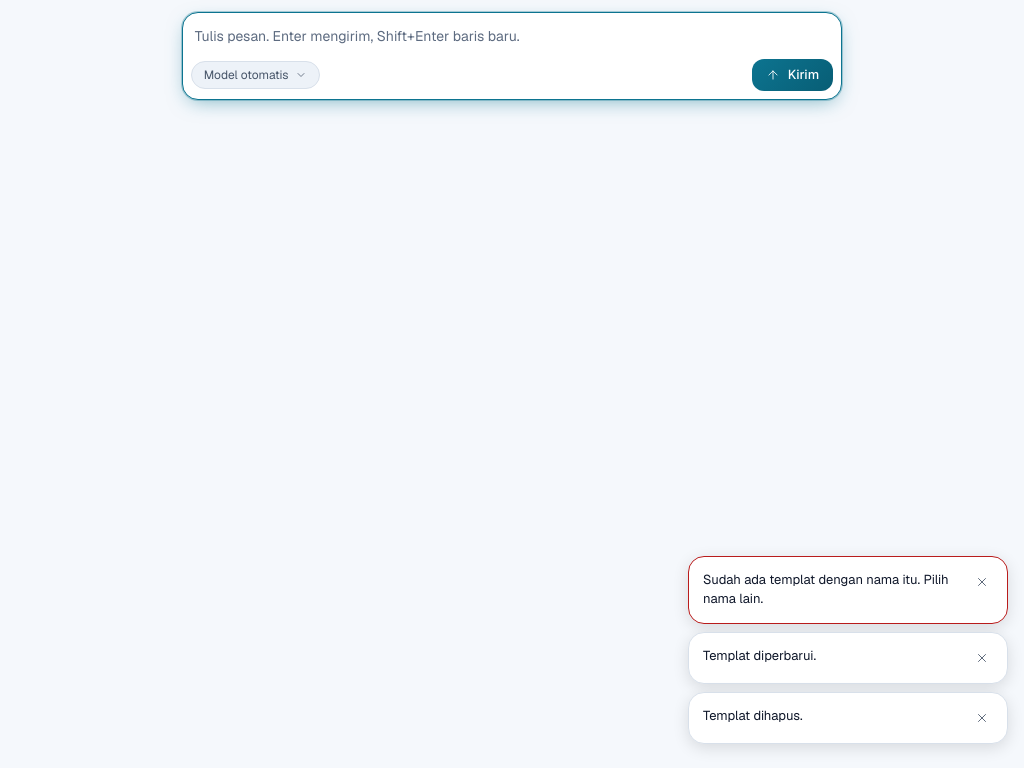
menu / di composer › templat berparameter membuka dialog isian lalu mengisi draf
This screenshot has width=1024, height=768.
In the text box labelled "pesan": (512, 36) [191, 21, 833, 51], type "/rin"
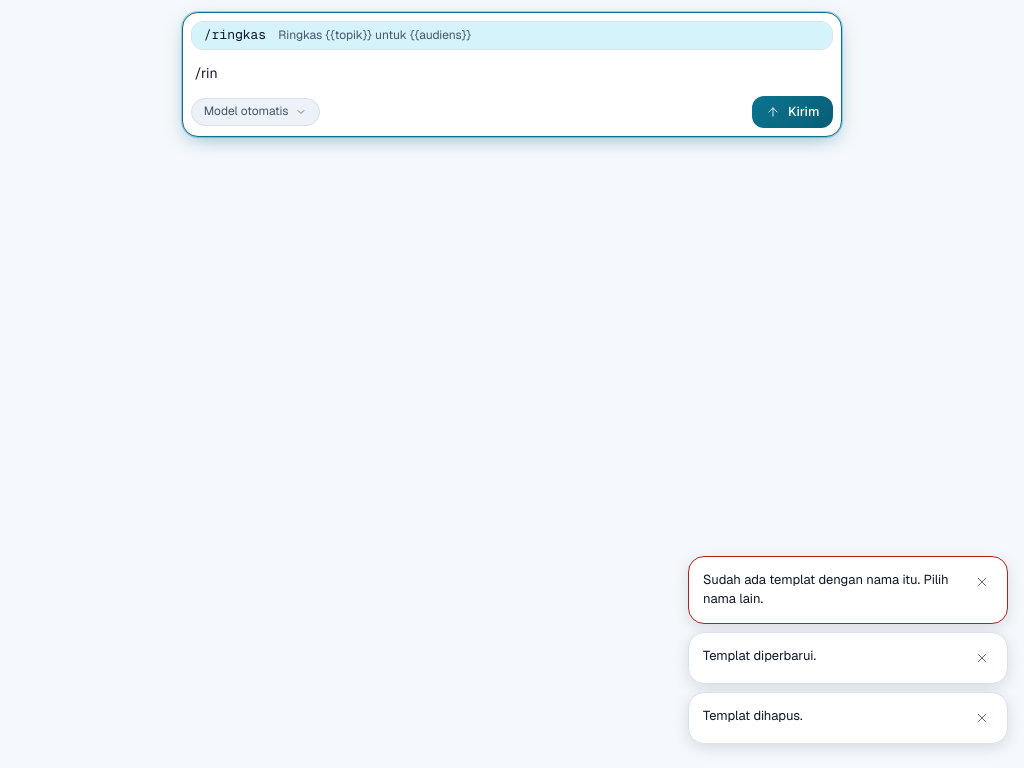
Click the option "/ringkas Ringkas {{topik}} untuk {{audiens}}": (239, 34) [192, 22, 832, 49]
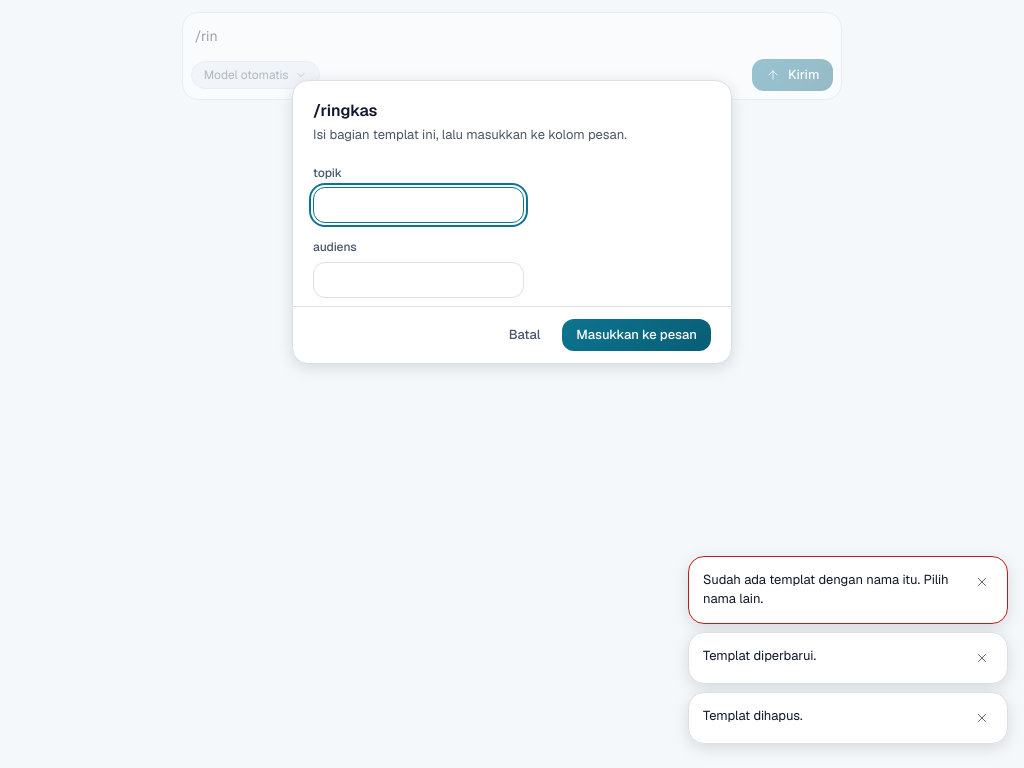
In the field labelled "topik": (418, 205) [313, 187, 524, 223], type "AI"
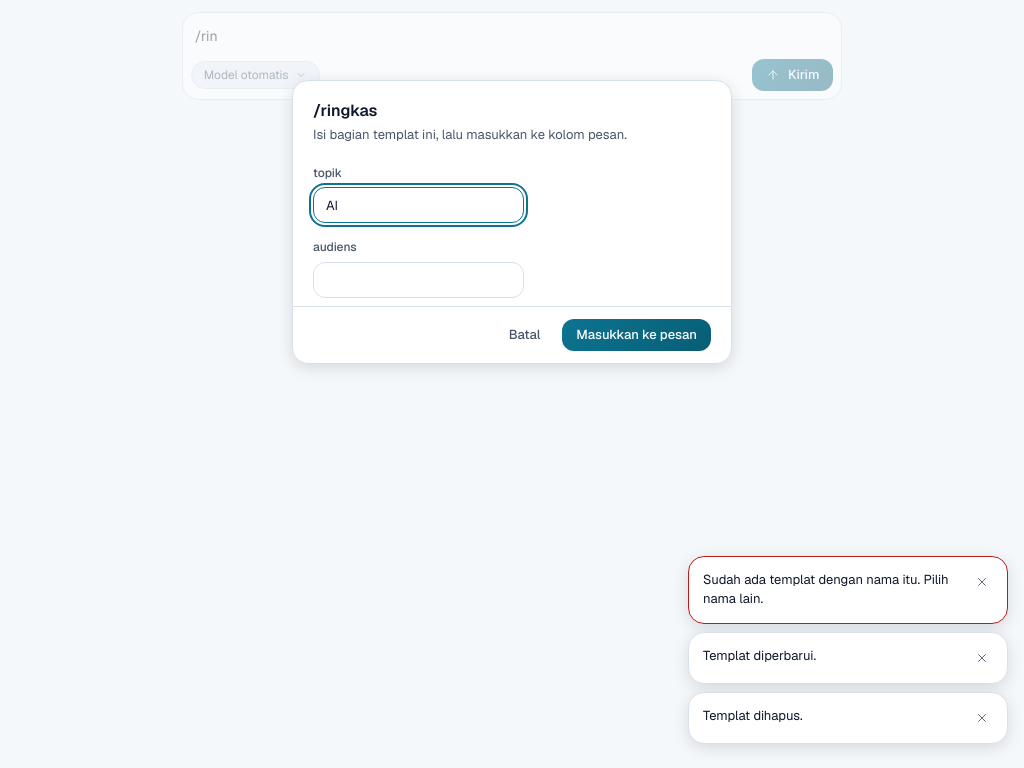
In the field labelled "audiens": (418, 280) [313, 262, 524, 298], type "manajer"
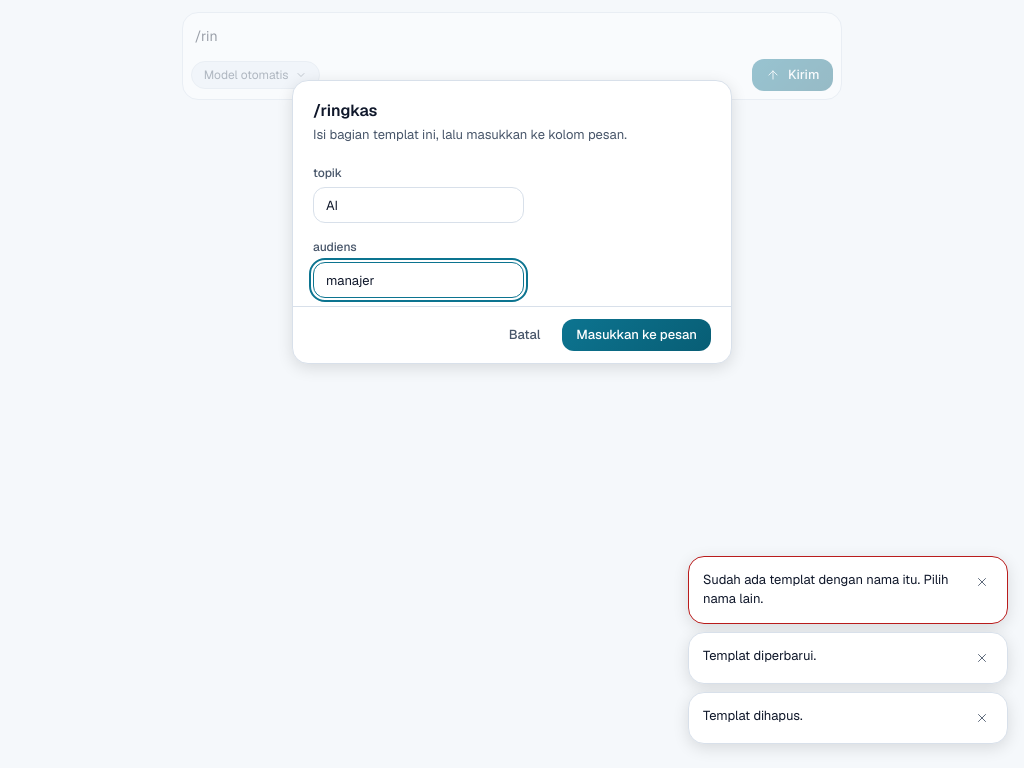
Click the button "Masukkan ke pesan": (637, 335) [562, 319, 711, 351]
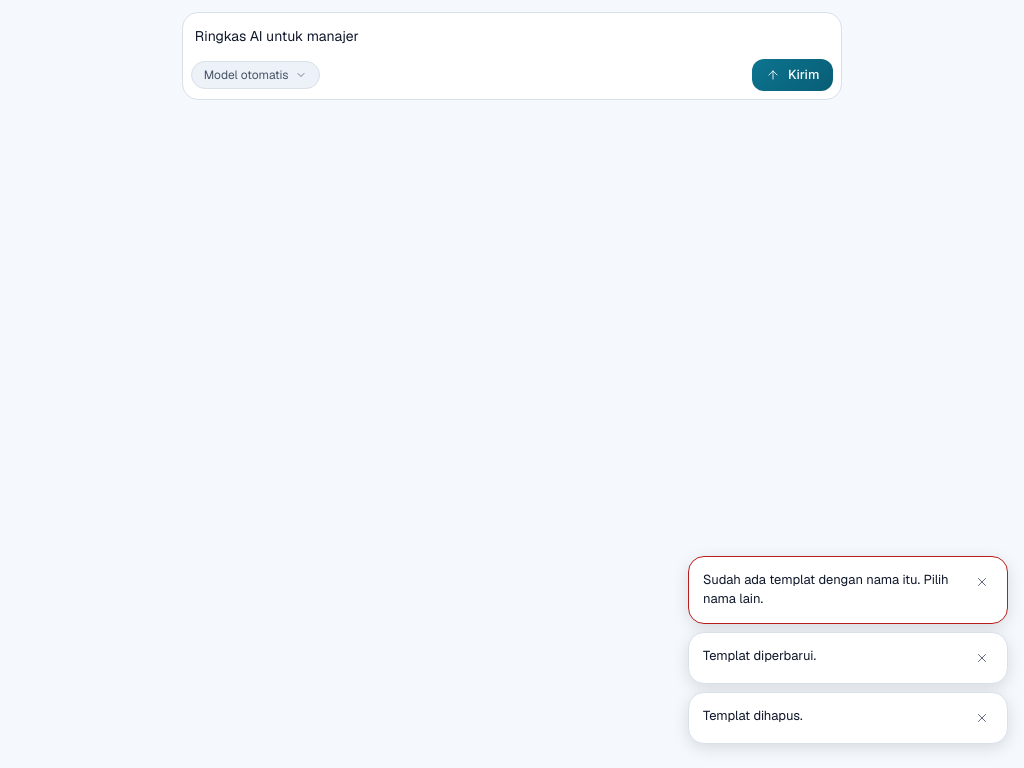
Now the text box named "pesan" holds "Ringkas AI untuk manajer", box [191, 21, 833, 51]
